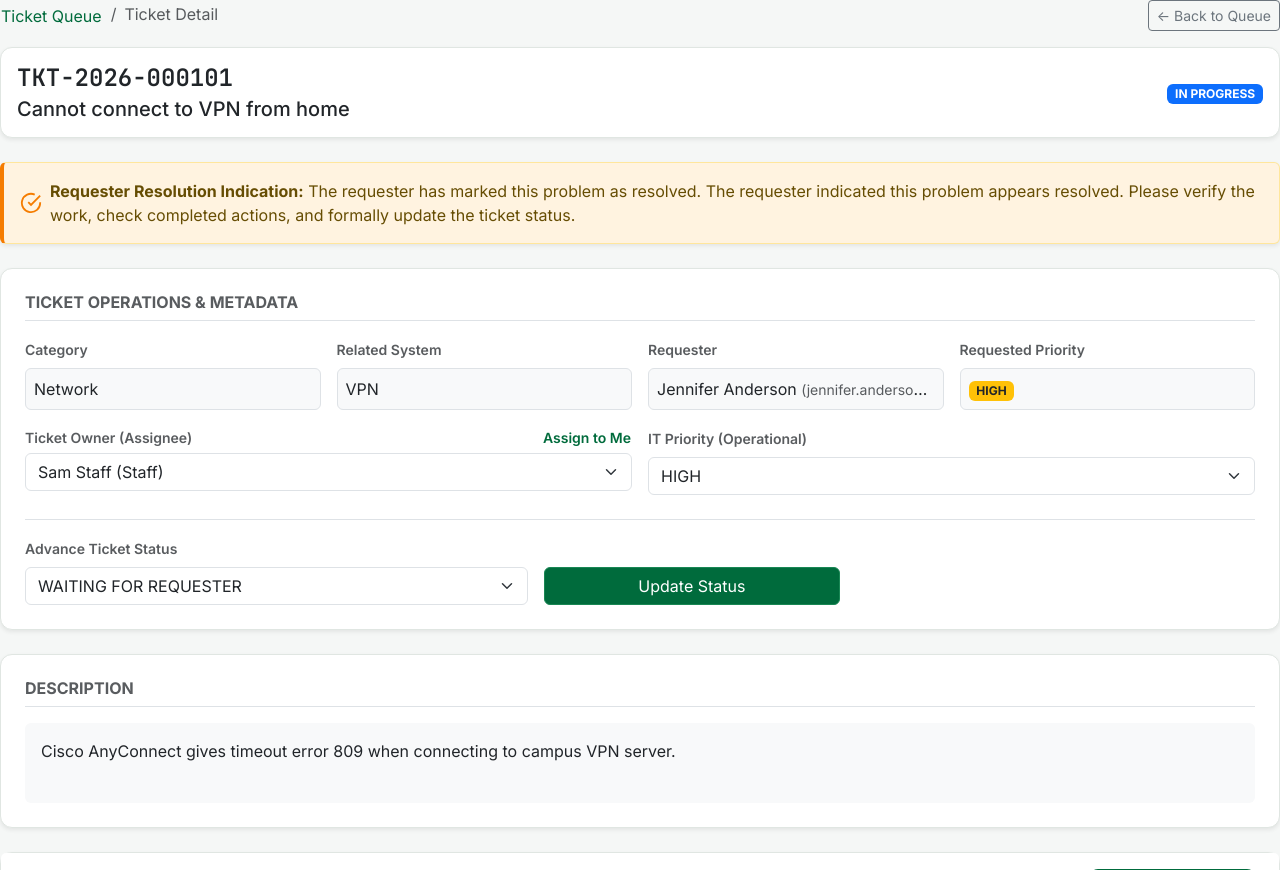
Test: StaffTicketDetail Component Tests (UI-04, UI-05) › UI-04: Staff Ticket Detail Actions & Operational Controls (AC-08, AC-09, AC-10) › displays owner select and allows quick 'Assign to Me' claiming (AC-08)
Expected: the dropdown with test id "owner-select" is shown, [25,453,632,491]
Click the button with test id "assign-to-me-btn". click: {"x": 587, "y": 438}
box: [542,426,632,449]
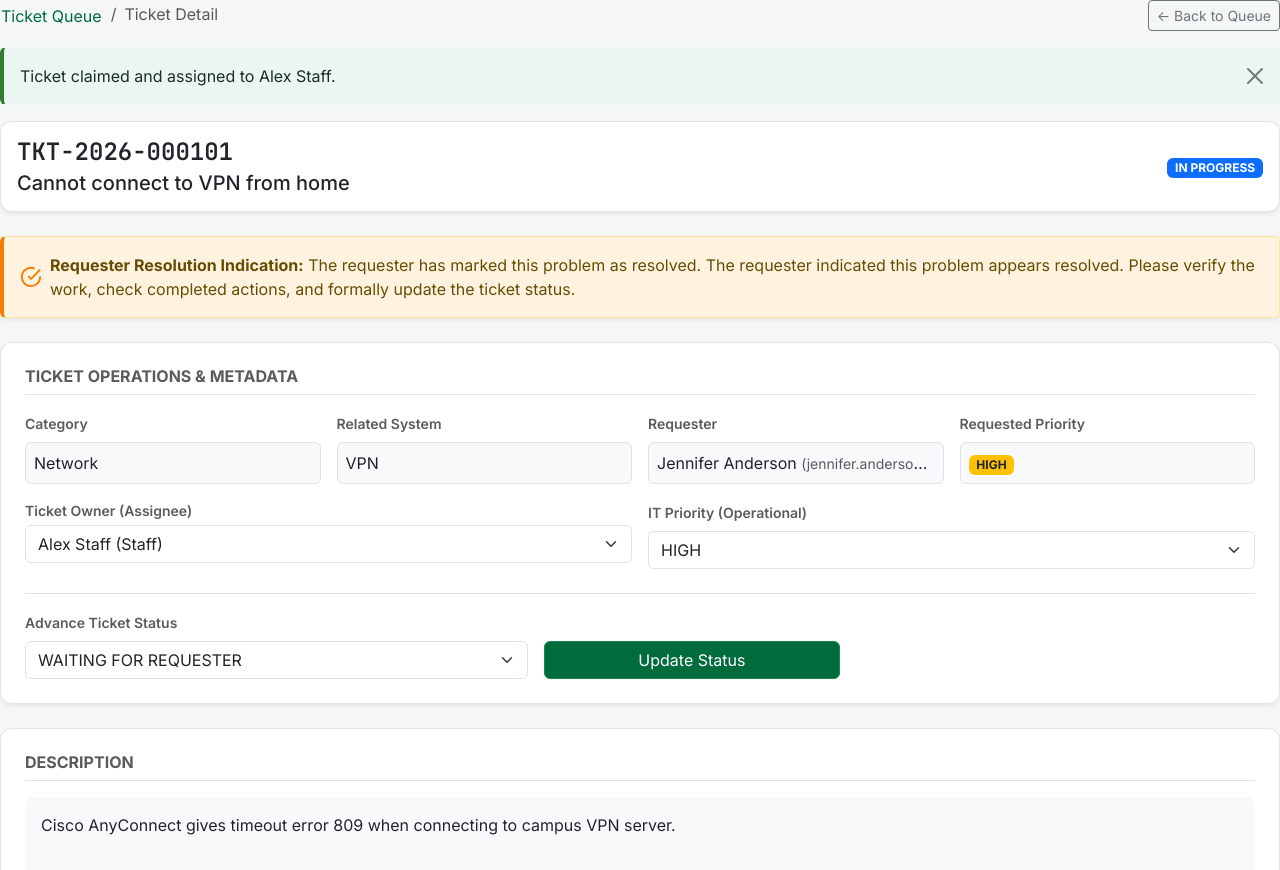
Result: the message with test id "success-banner" shows "Ticket claimed and assigned to Alex Staff" at [20,66,336,86]
